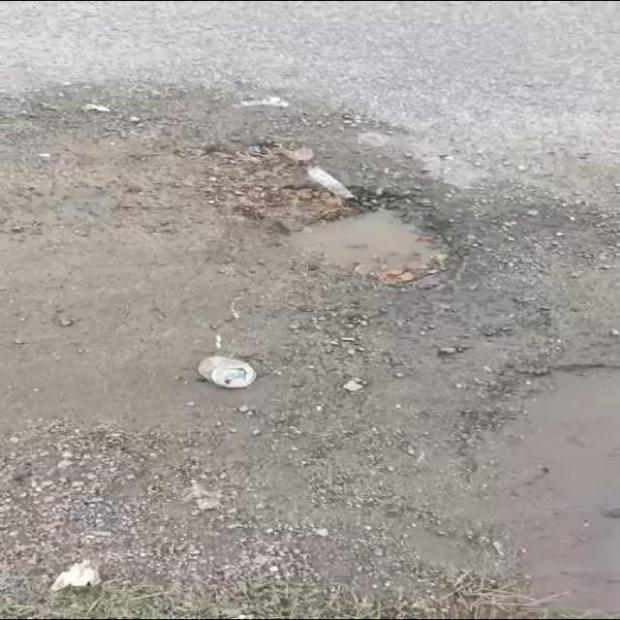lubang: (473, 366, 619, 615), (248, 186, 466, 284), (206, 139, 314, 202)
